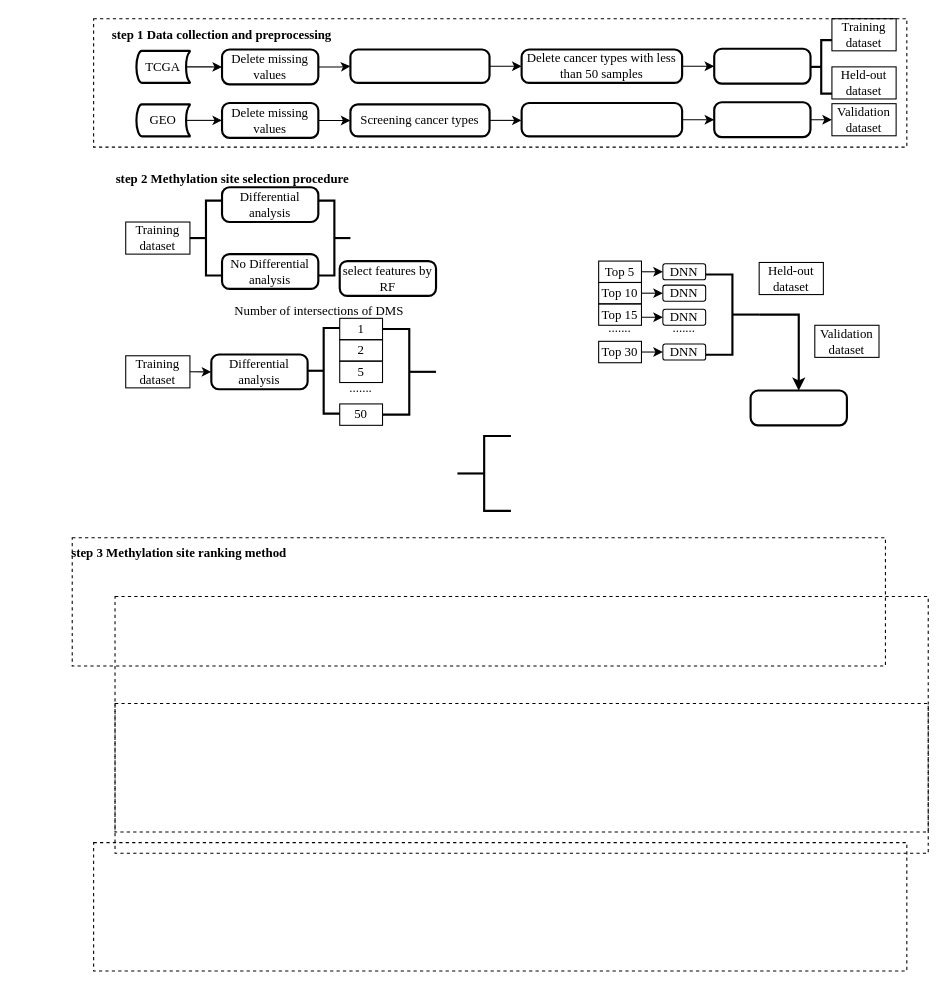
This 947x990 diagram has some shape labels left out. Each missing label, with the centre of its shape:
18 cancers 2425 samples: [762,119]
24 cancers 8133 samples: [762,65]
at least 27 methylation probes in the training set: [601,119]
Combined with similar cancer types: [419,65]
Evaluating indicator: [798,407]
